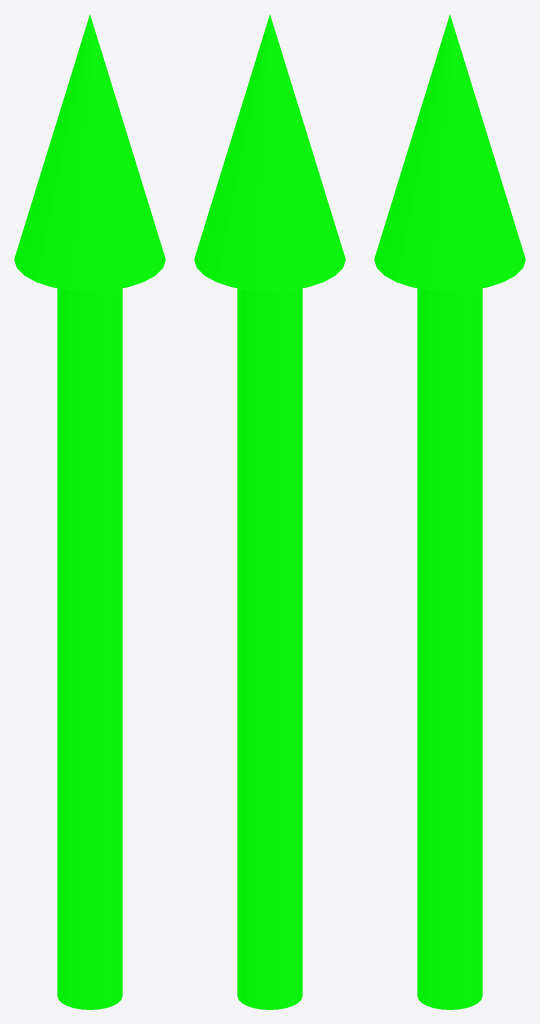
File: move_y.glb
3 renders of one model, left to right at view 1: azimuth 30°, elevation 25°; view 2: azimuth 150°, elevation 25°; view 3: azimuth 270°, elevation 25°, orthographic.
Parts seen in each view (by area): view 1: Arrow_Y; view 2: Arrow_Y; view 3: Arrow_Y.
Boxes of the visible parts, <box> form: Arrow_Y: <box>14,15,165,1009</box>; Arrow_Y: <box>194,15,345,1009</box>; Arrow_Y: <box>374,15,525,1009</box>.
Size of the model in its own units: 0.14 by 1 by 0.14.
